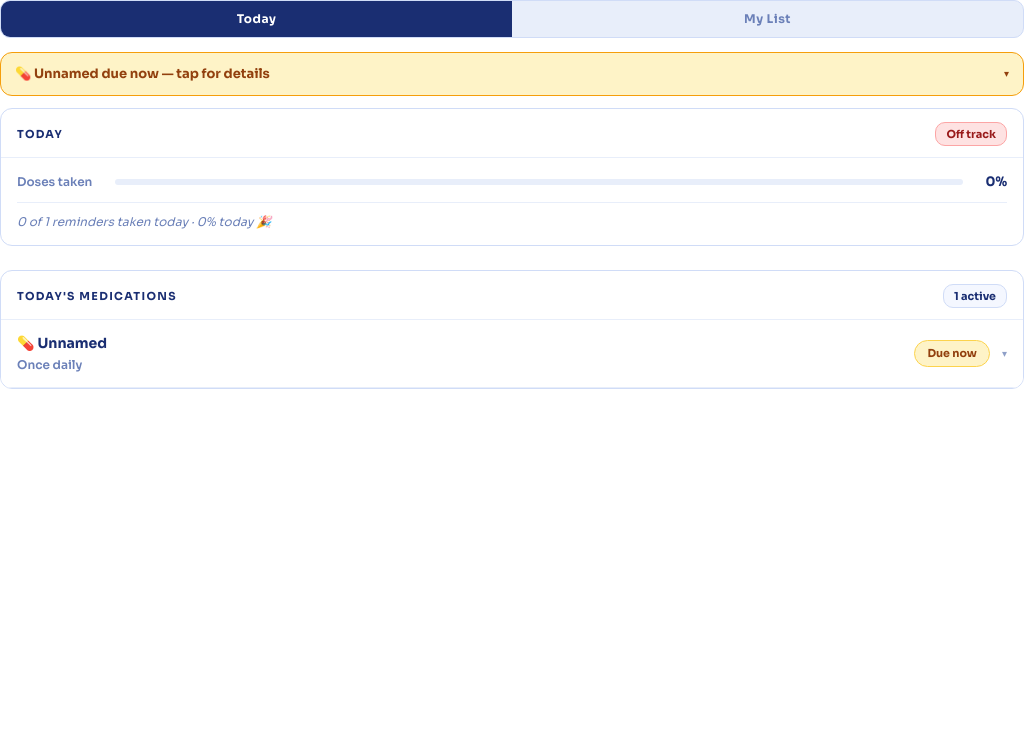
Test: MedicationList — reminder toggle › enabling reminder reveals a time input
Click the button "My List": (768, 19) left=512, top=1, right=1023, bottom=37
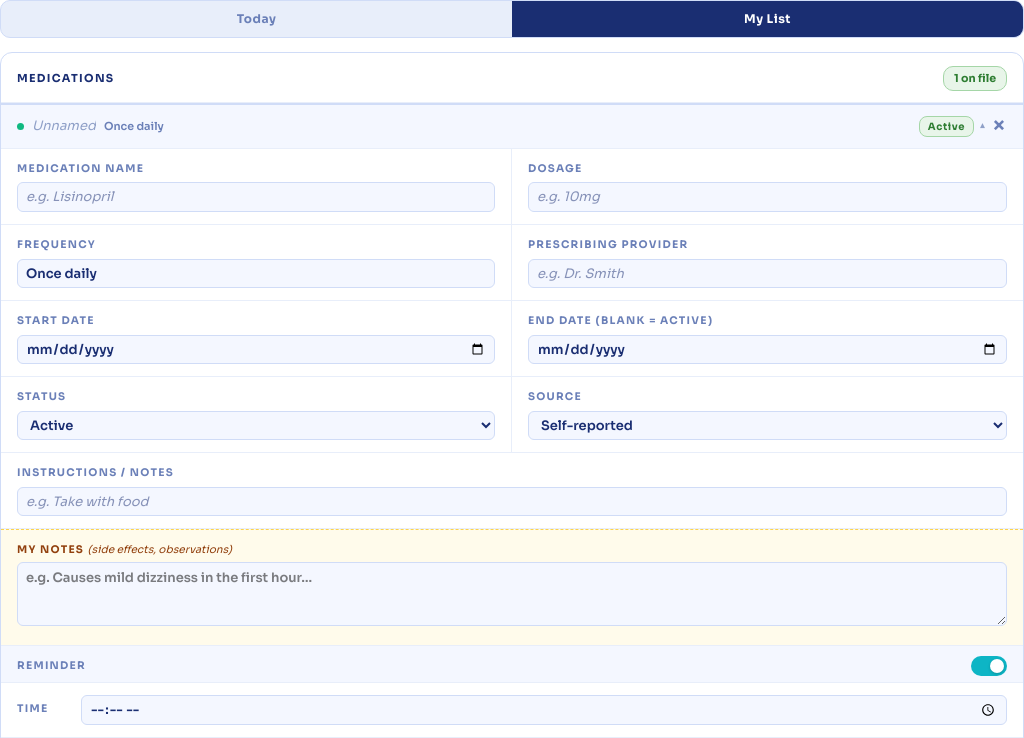
Expected: the time field labelled "Time" is shown, left=81, top=695, right=1007, bottom=725
